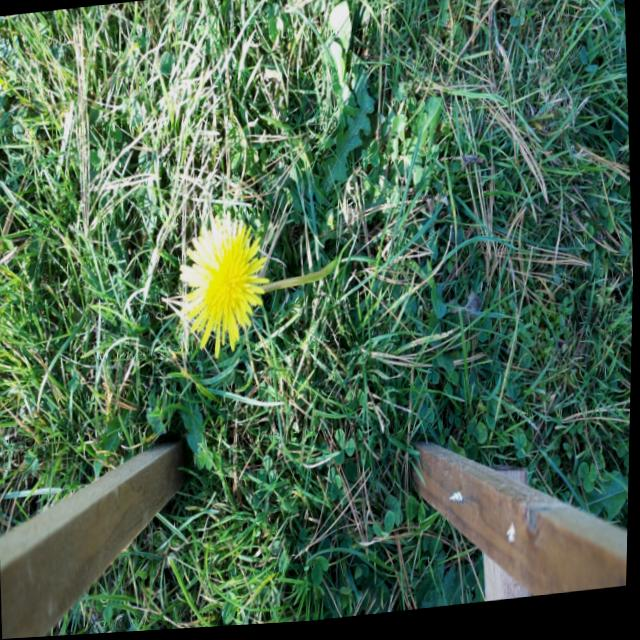base: (328, 247, 349, 284)
flower: (179, 212, 268, 349)
